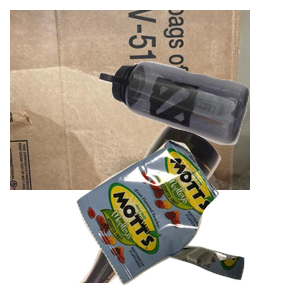cardboard: (10, 10, 250, 190)
glass: (66, 120, 279, 300)
plastic: (97, 59, 300, 197)
trash: (74, 137, 300, 300)
